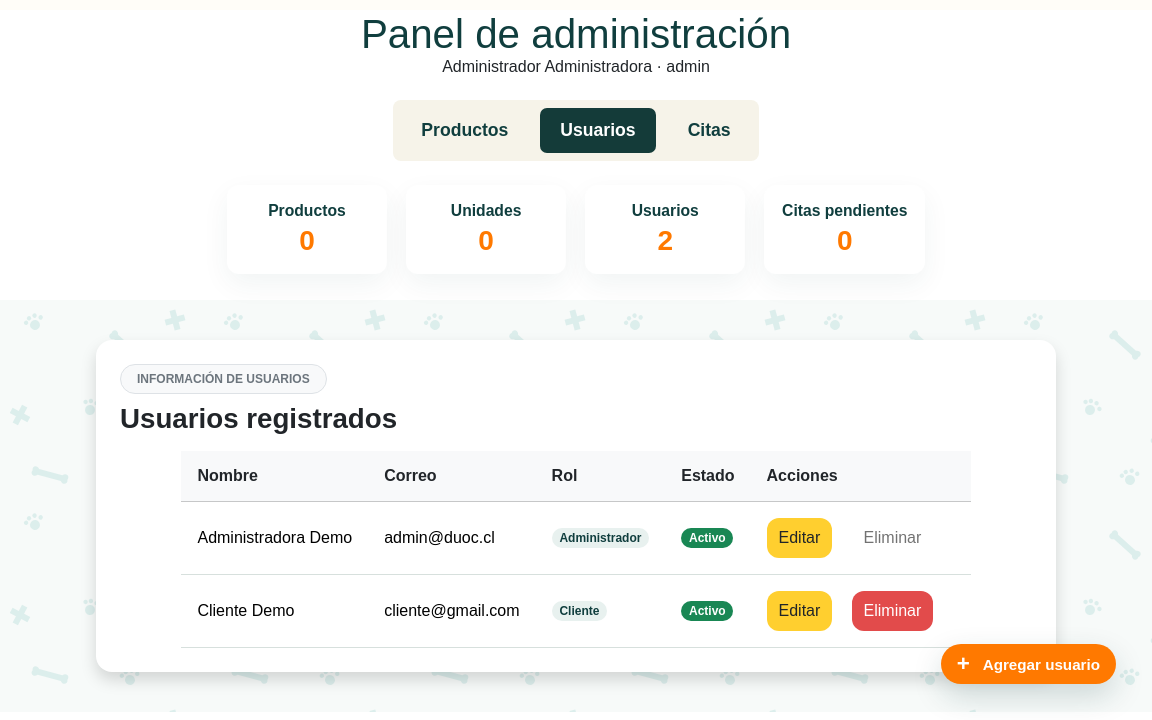
Scenario: conserva el usuario cuando se cancela la confirmación de eliminación
What coordinates should you click on to do the following:
click the button "Eliminar" in the row of "Cliente Demo"
I would click on:
 (892, 611)
Its box is [852,591,933,631].
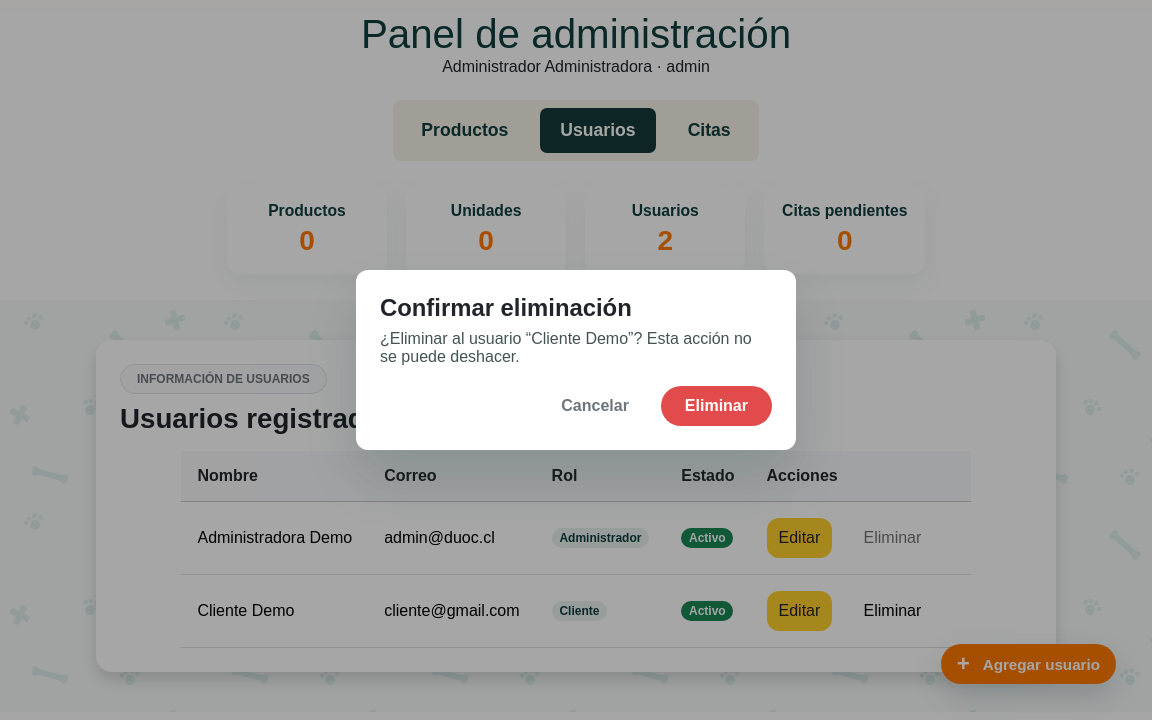
Result: the dialog is shown at [356,270,796,450]
What coordinates should you click on to do the following:
click the button with class "btn-outline-secondary"
I would click on:
 (595, 406)
Its box is [537,386,653,426].
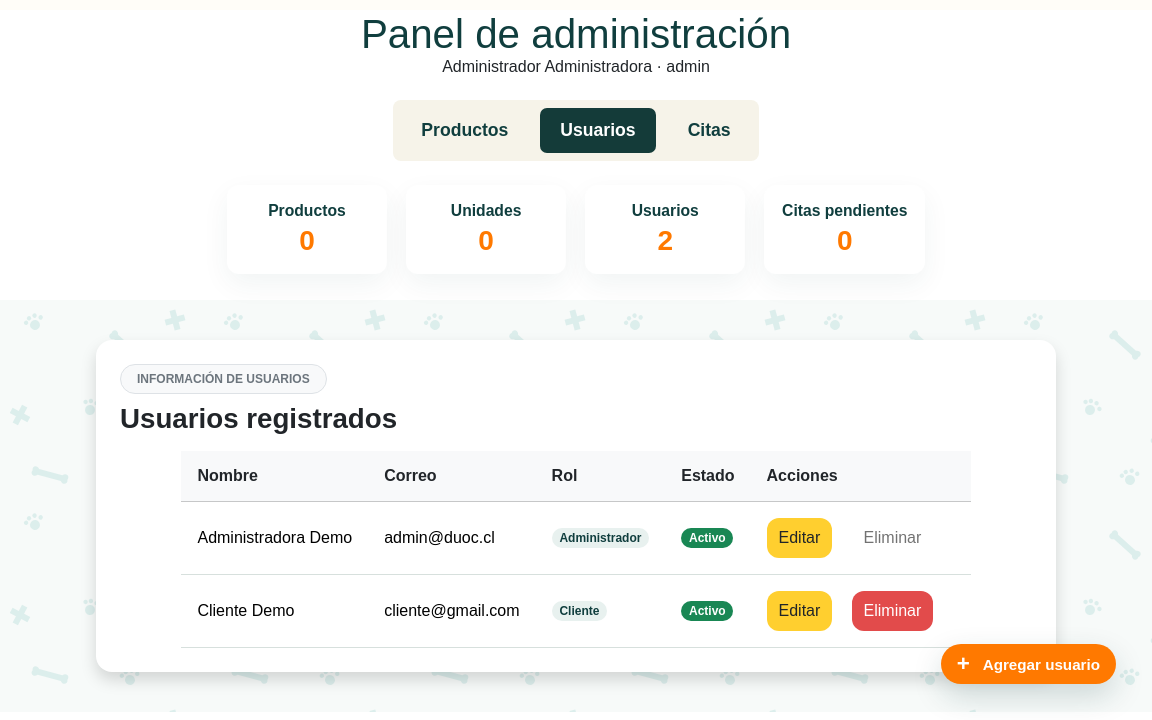
Expected: the text "Cliente Demo" is shown, [182,574,368,648]
Result: the dialog is gone
